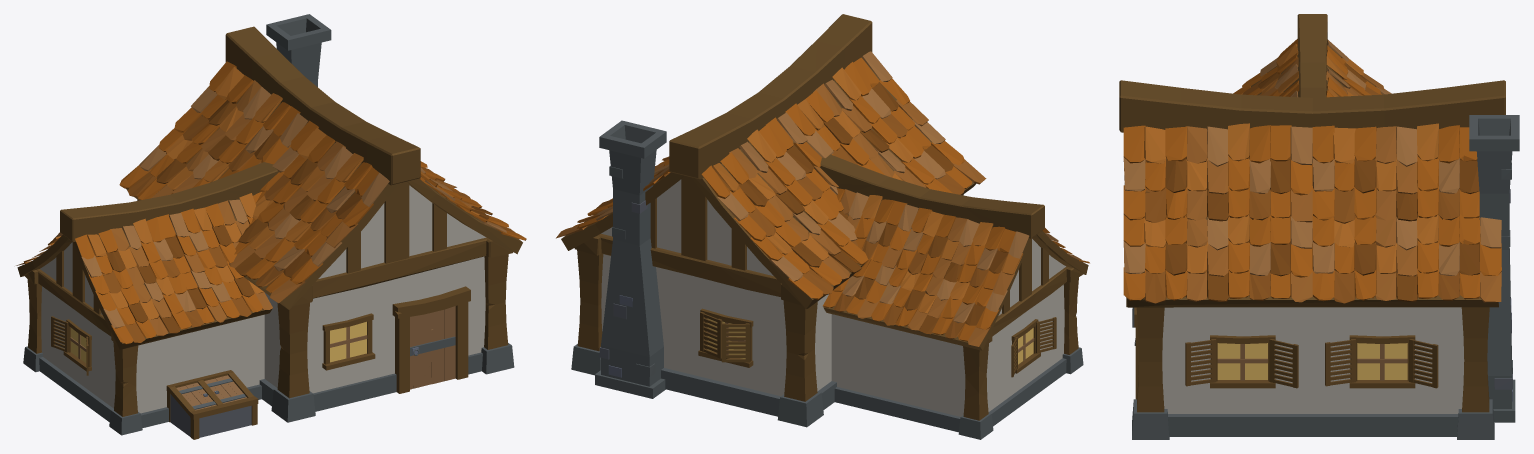
File: House_03.fbx
3 renders of one model, left to right at view 1: azimuth 30°, elevation 25°; view 2: azimuth 150°, elevation 25°; view 3: azimuth 270°, elevation 25°, orthographic. The views are drawn at different scales.
Visible parts, largest first — view 1: House_03; view 2: House_03; view 3: House_03.
Part boxes in pixels (x1,y1,x2,y2): House_03: (16,14,526,439); House_03: (556,14,1089,439); House_03: (1119,14,1519,439).
Size of the model in its own units: 8.86 by 5.47 by 6.88.
